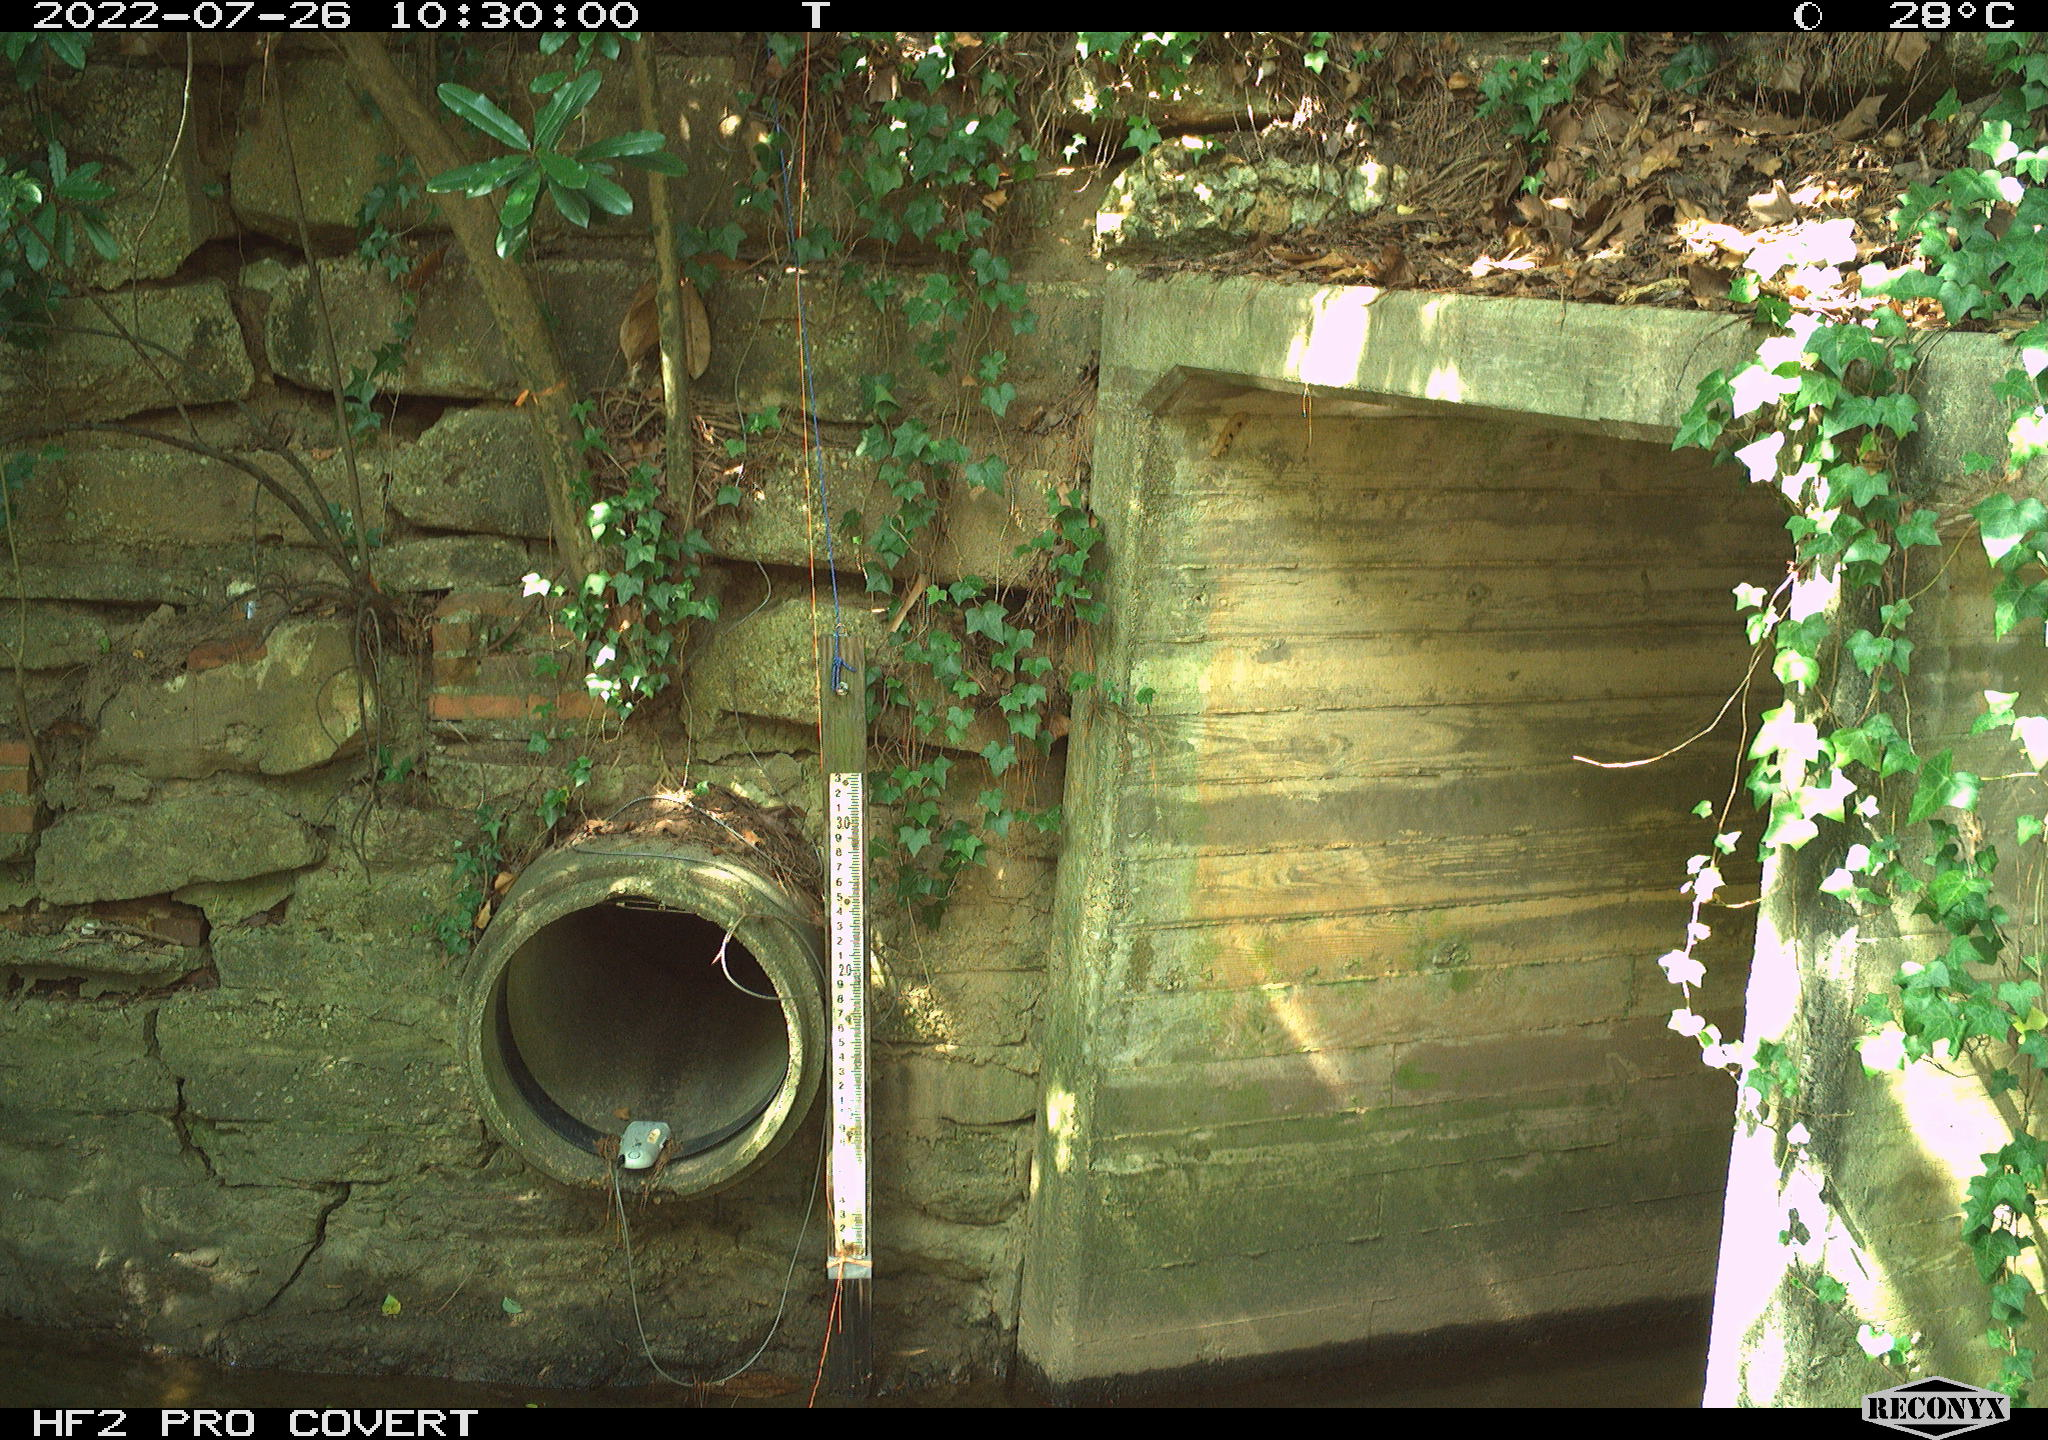Empty Outlet: (486, 905, 792, 1188)
